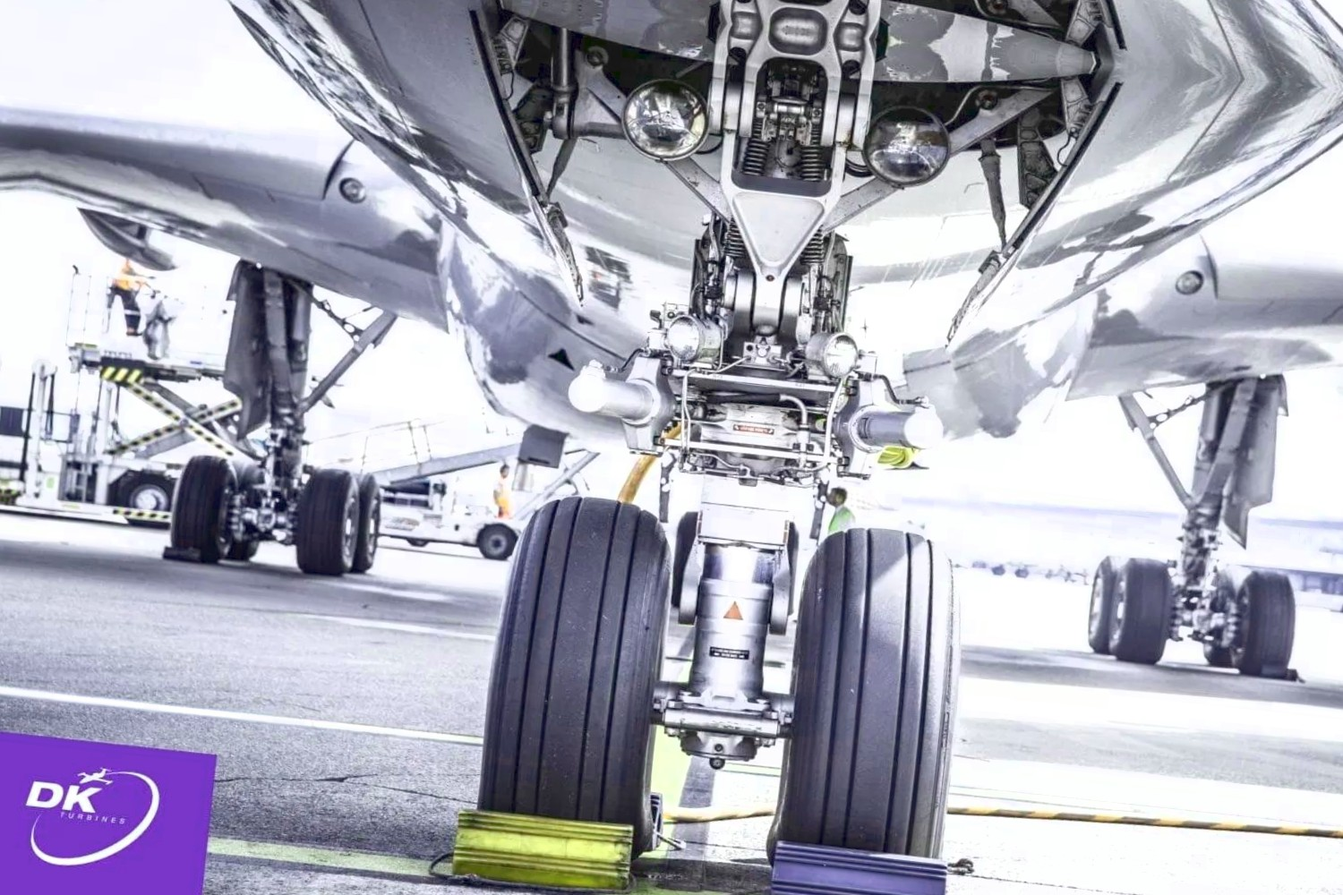chock: (447, 802, 641, 895), (764, 835, 960, 895)
wheel: (468, 492, 685, 862), (762, 521, 971, 885), (664, 506, 801, 635), (289, 462, 383, 579), (1214, 564, 1302, 679), (164, 451, 240, 565), (1109, 554, 1177, 666), (213, 462, 271, 562), (1195, 575, 1248, 669), (1082, 553, 1130, 655), (665, 507, 705, 621), (343, 474, 386, 576), (111, 468, 179, 518), (772, 519, 803, 625), (474, 520, 520, 562), (405, 536, 429, 547)
